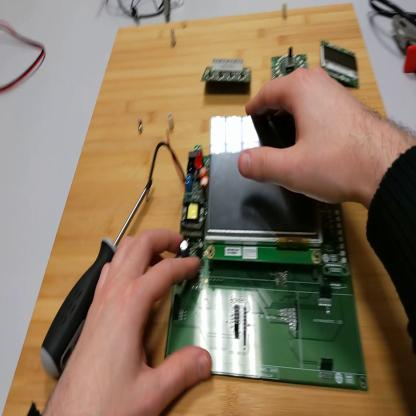hand: (43, 228, 216, 416), (238, 67, 372, 206)
low voltage board: (144, 134, 371, 392)
oscilloscope probe tip: (163, 1, 172, 25)
pliers: (394, 17, 416, 74)
screwdriver-: (43, 180, 153, 381)
working area: (4, 7, 416, 415)
